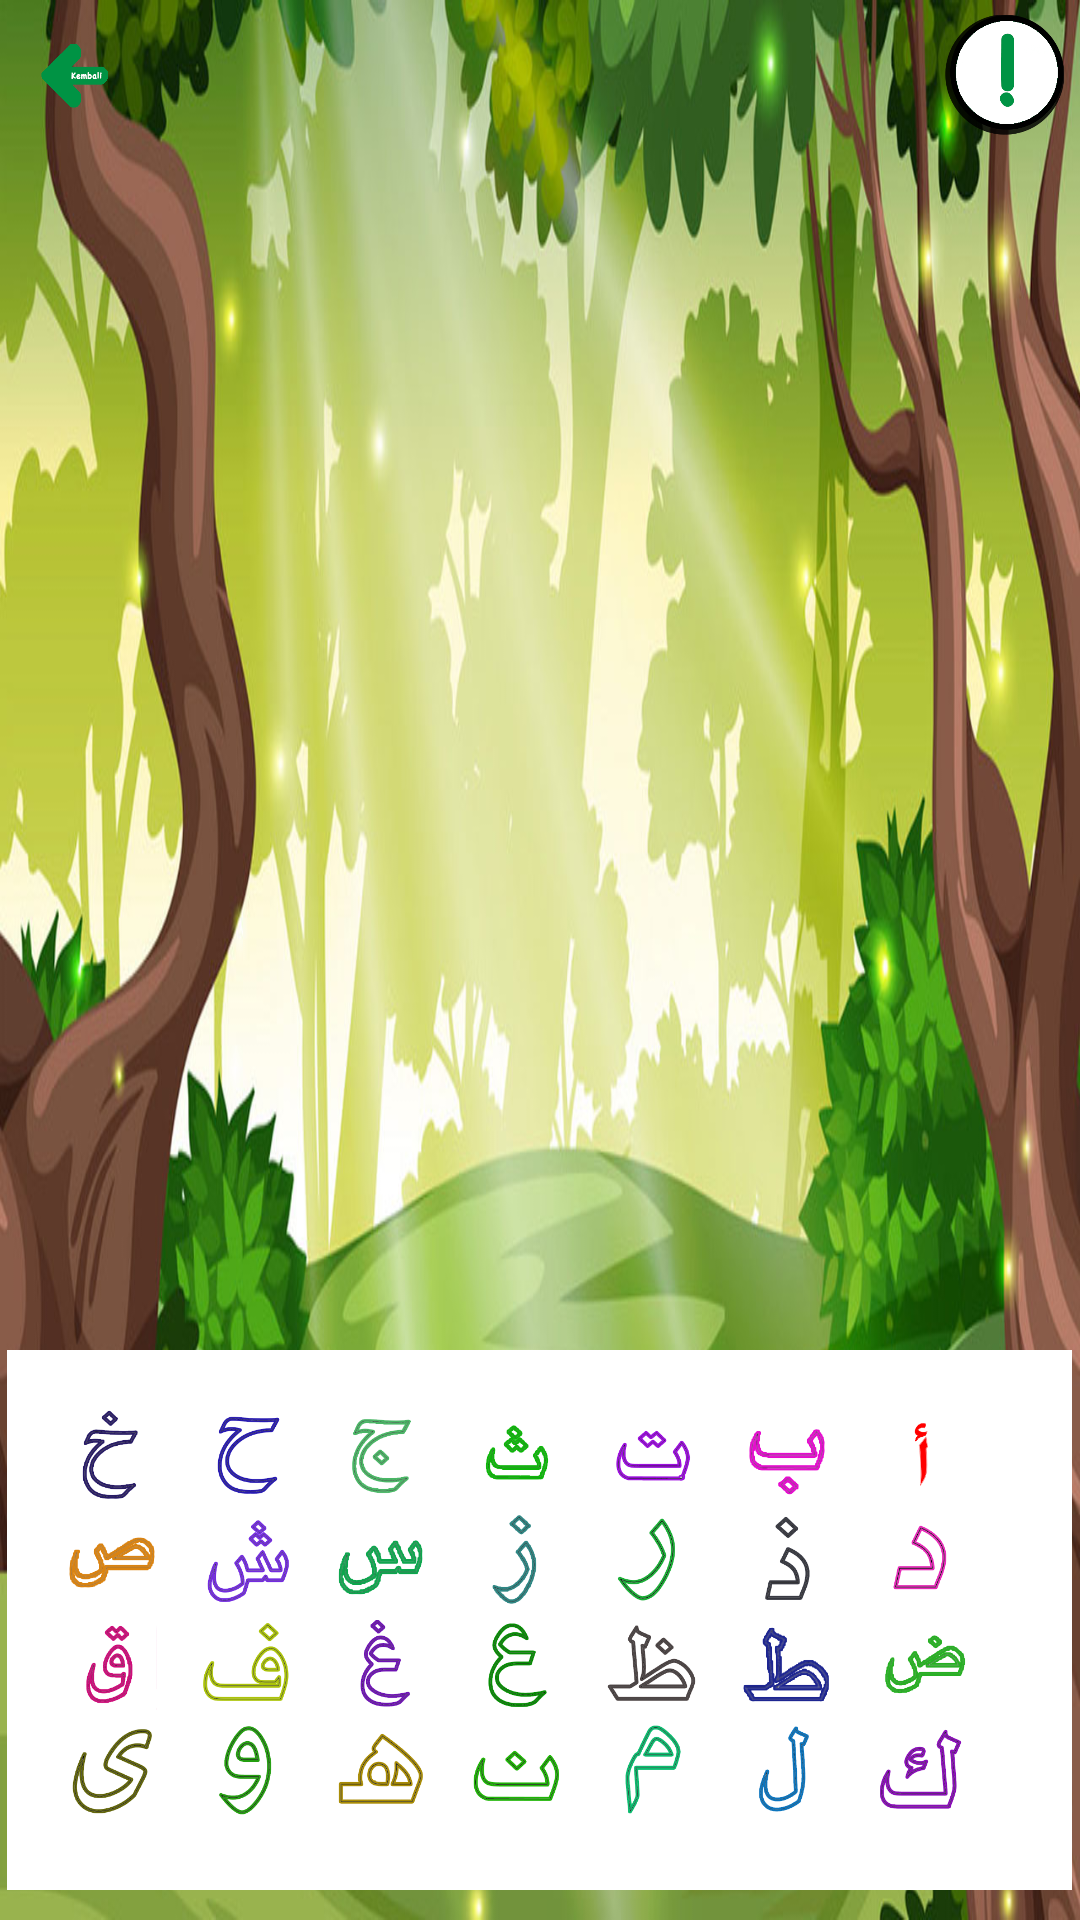

Screen size 1080 × 1920. Icon name, then its center in pixels as (x,y):
ain: (517,1665)
alif: (921,1454)
dal: (920,1558)
dho: (925,1664)
dzal: (787,1558)
dzo: (651,1663)
gho: (385,1663)
ha tebal: (380,1769)
help: (1005,75)
kaf: (920,1769)
kho: (110,1455)
lam: (784,1769)
mim: (653,1769)
nun: (516,1776)
qof: (109,1664)
shod: (112,1562)
sin: (381,1567)
syin: (248,1561)
tho: (786,1664)
tsa: (517,1452)
